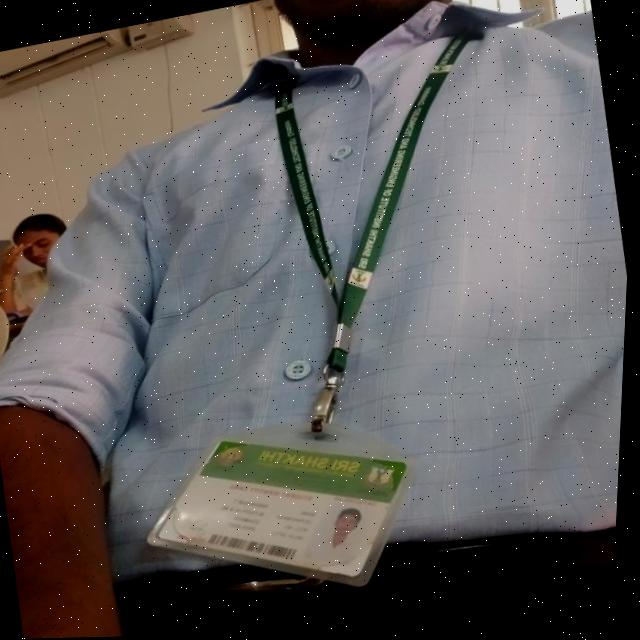id_card: (71, 10, 594, 625)
